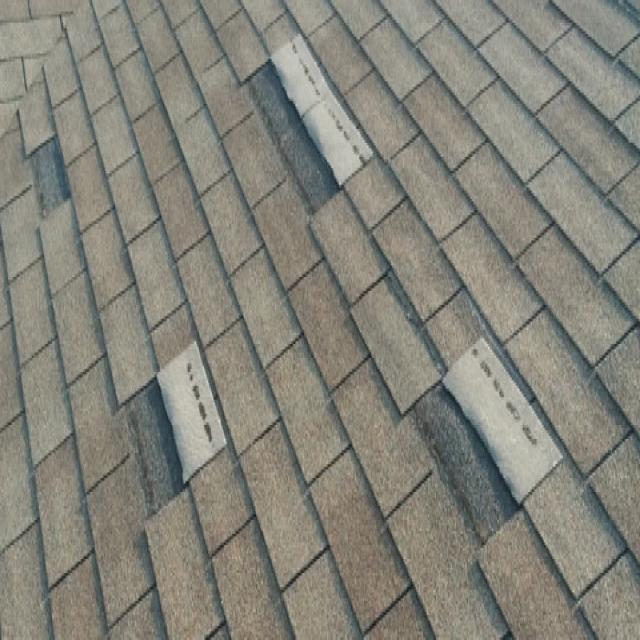trou: (399, 335, 568, 547), (229, 34, 380, 217), (109, 338, 233, 514), (20, 134, 76, 221)
